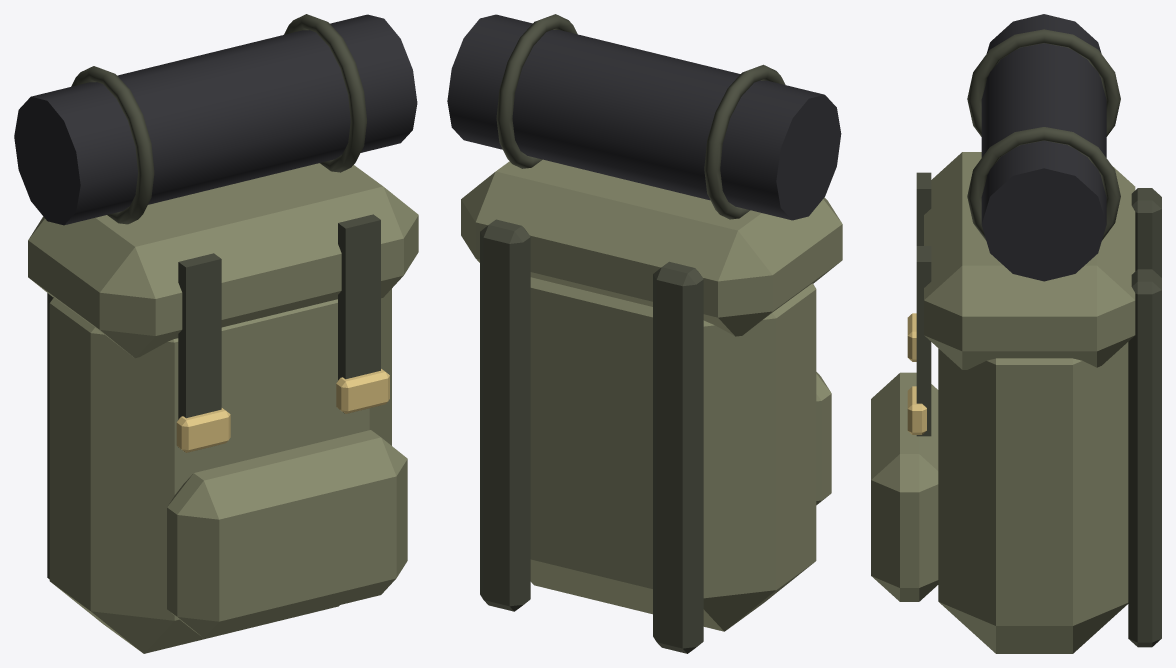
The model's file is item_backpack.glb.
The picture shows the model from 3 angles, left to right: view 1: azimuth 30°, elevation 25°; view 2: azimuth 150°, elevation 25°; view 3: azimuth 270°, elevation 25°; orthographic projection. The views are drawn at different scales.
Parts seen in each view (by area): view 1: backpack; view 2: backpack; view 3: backpack.
Boxes of the visible parts, left/top/right/bottom form: backpack: left=14, top=14, right=418, bottom=653; backpack: left=447, top=14, right=842, bottom=653; backpack: left=871, top=14, right=1161, bottom=653.
Size of the model in its own units: 0.38 by 0.61 by 0.3025.
